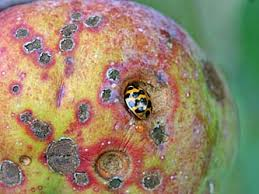damaged_apple: (2, 7, 239, 185)
